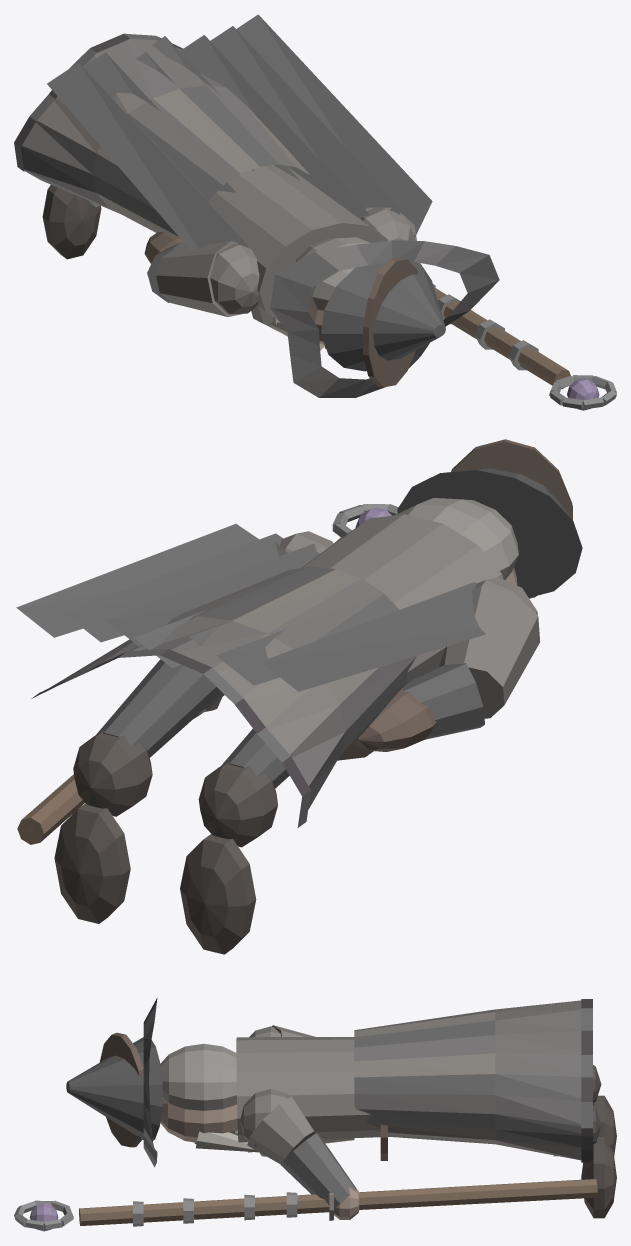
Rendered from wizard-arcane-neutral.glb.
3 views of the same model, one above another, from view 1: azimuth 30°, elevation 25°; view 2: azimuth 150°, elevation 25°; view 3: azimuth 270°, elevation 25° (orthographic). The views are drawn at different scales.
Visible parts, largest first — view 1: cape, robe, hat-brim, torso, hat-crown, shoulder, upper-arm, boot, hat-band, staff, hem, rear-hair (+4 smaller); view 2: cape, robe, boot, torso, hat-crown, leg, upper-arm, forearm, rear-hair, hat-band, hem, pouch (+3 smaller); view 3: robe, torso, staff, hat-crown, rear-hair, boot, forearm, upper-arm, face, hem, shoulder, hat-band (+6 smaller).
Boxes of the visible parts, bbox=[...] form: cape: bbox=[47, 14, 432, 250]; robe: bbox=[21, 38, 309, 237]; hat-brim: bbox=[270, 240, 499, 397]; torso: bbox=[208, 165, 387, 321]; hat-crown: bbox=[321, 262, 445, 371]; shoulder: bbox=[210, 207, 415, 314]; upper-arm: bbox=[156, 207, 416, 316]; boot: bbox=[42, 185, 101, 259]; hat-band: bbox=[363, 256, 418, 387]; staff: bbox=[434, 287, 570, 389]; hem: bbox=[14, 33, 183, 171]; rear-hair: bbox=[295, 237, 369, 310]; cape: bbox=[16, 524, 485, 691]; robe: bbox=[50, 566, 416, 809]; boot: bbox=[54, 731, 277, 954]; torso: bbox=[302, 514, 503, 686]; hat-crown: bbox=[397, 468, 582, 597]; leg: bbox=[94, 659, 379, 788]; upper-arm: bbox=[275, 542, 540, 718]; forearm: bbox=[205, 663, 484, 739]; rear-hair: bbox=[395, 498, 518, 579]; hat-band: bbox=[451, 439, 572, 598]; hem: bbox=[31, 649, 310, 827]; pouch: bbox=[352, 687, 436, 751]; robe: bbox=[354, 1000, 581, 1160]; torso: bbox=[236, 1037, 388, 1142]; staff: bbox=[79, 1179, 597, 1225]; hat-crown: bbox=[66, 1037, 162, 1140]; rear-hair: bbox=[160, 1043, 236, 1110]; boot: bbox=[553, 1065, 616, 1218]; forearm: bbox=[281, 1133, 357, 1209]; upper-arm: bbox=[247, 1025, 315, 1164]; face: bbox=[160, 1098, 237, 1142]; hem: bbox=[581, 999, 592, 1162]; shoulder: bbox=[240, 1026, 297, 1146]; hat-band: bbox=[99, 1032, 143, 1147].
Size of the model in its own units: 1.24 by 0.8595 by 2.53.
